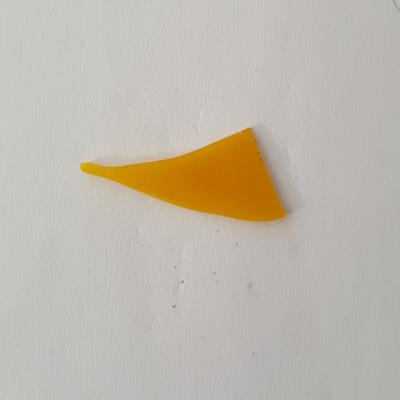plastic: (76, 120, 293, 229)
